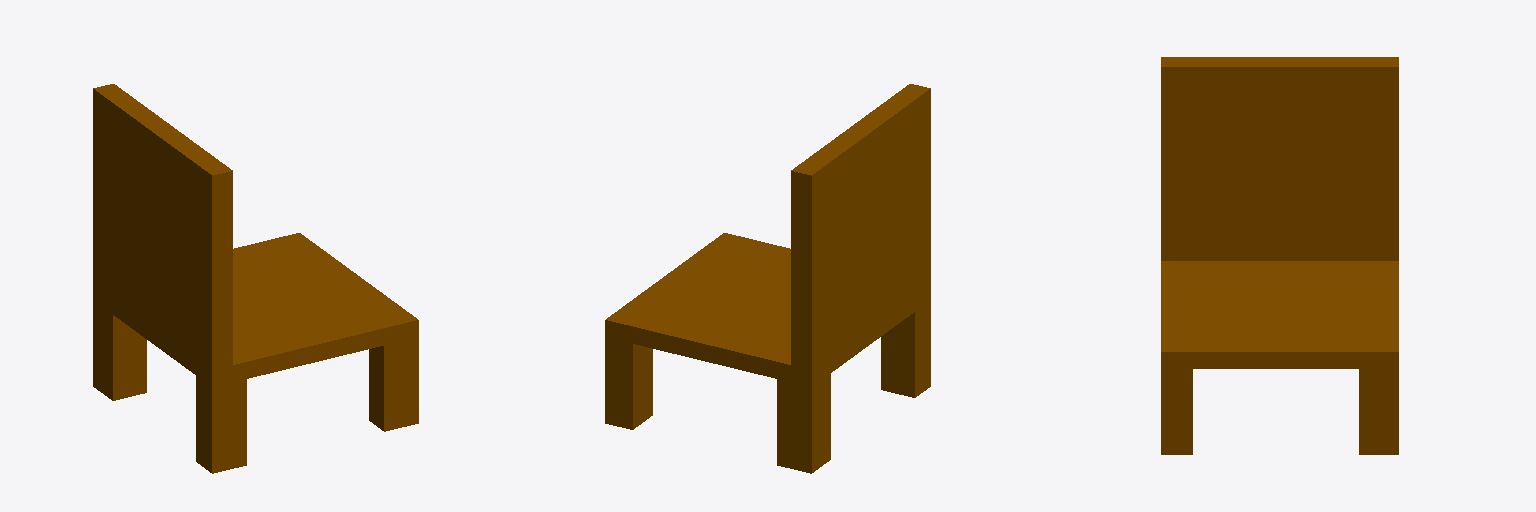
3 views of the same model, side by side, from view 1: azimuth 30°, elevation 25°; view 2: azimuth 150°, elevation 25°; view 3: azimuth 270°, elevation 25° (orthographic).
Visible parts, largest first — view 1: Cube34; view 2: Cube34; view 3: Cube34.
Part boxes in pixels (x1,y1,x2,y2): Cube34: (93, 84, 418, 473); Cube34: (605, 84, 930, 473); Cube34: (1161, 57, 1398, 454).
Size of the model in its own units: 2 by 2.76 by 2.
Materials: 1 (1 with a texture image).